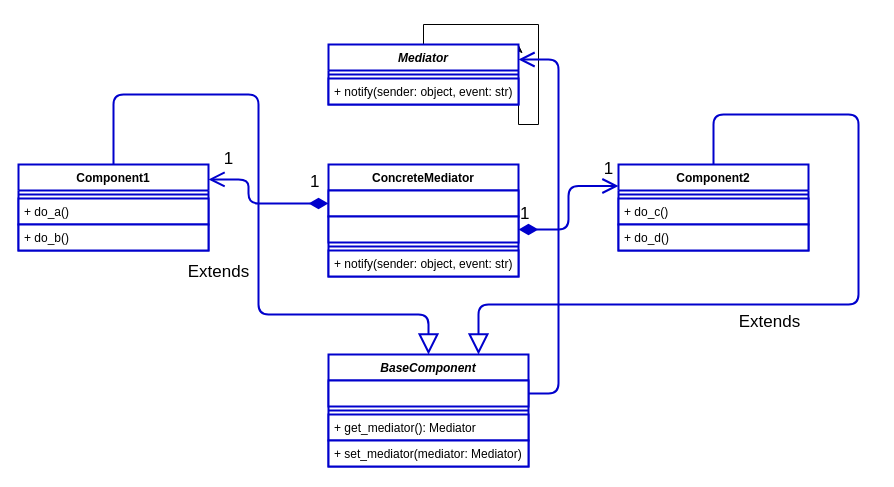
The diagram is 894 pixels wide and 487 high, and some of its shapes have lost their labels. The centre of each missing label's shape, as x and y in pixels:
# _component1: Component1: point (423, 203)
# _component2: Component2: point (423, 229)
# _mediator: Mediator: point (428, 393)
